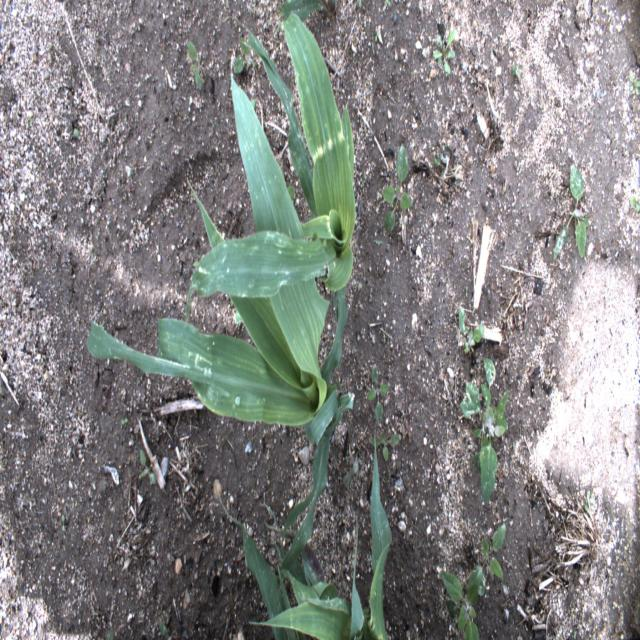crop: (87, 71, 355, 573), (186, 3, 357, 320), (218, 430, 393, 638)
weed: (438, 523, 508, 638), (458, 356, 510, 510), (550, 158, 590, 262), (380, 136, 415, 236), (369, 420, 414, 465), (455, 300, 489, 355), (366, 363, 393, 430), (429, 26, 458, 81), (183, 41, 205, 89), (230, 33, 255, 75), (433, 148, 460, 179), (141, 452, 157, 492), (368, 27, 382, 56), (582, 486, 596, 513), (156, 616, 173, 638), (509, 59, 524, 81), (627, 70, 638, 98), (118, 411, 129, 434), (71, 122, 83, 142), (262, 463, 271, 488), (630, 190, 638, 216), (58, 512, 67, 532), (354, 0, 363, 15), (383, 0, 394, 10), (106, 627, 115, 638)
